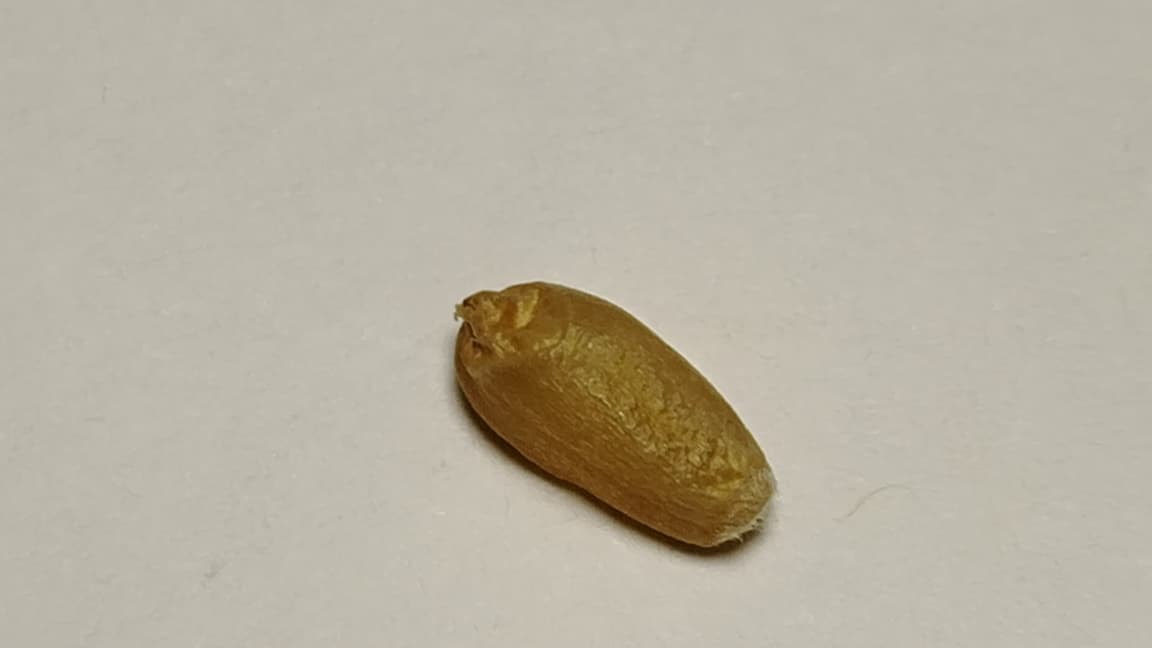healthy: (456, 286, 770, 543)
